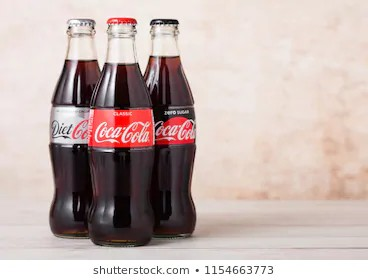coke-glass-bottle: (92, 16, 154, 248), (35, 16, 89, 236), (152, 16, 197, 242)
